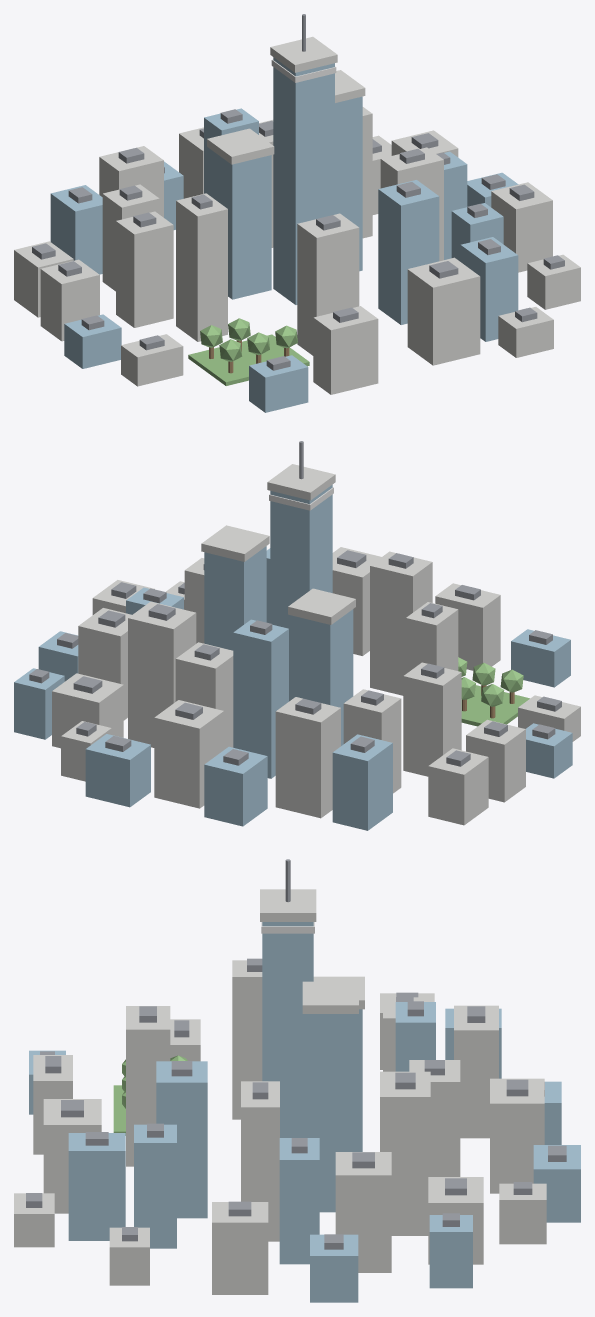
File: civ_city_modern_metro.glb
The picture shows the model from 3 angles, top to bottom: view 1: azimuth 30°, elevation 25°; view 2: azimuth 150°, elevation 25°; view 3: azimuth 270°, elevation 25°; orthographic projection. The views are drawn at different scales.
Visible parts, largest first — view 1: civ_city_modern_metro; view 2: civ_city_modern_metro; view 3: civ_city_modern_metro.
Part boxes in pixels (<box>): civ_city_modern_metro: <box>14,14,580,412</box>; civ_city_modern_metro: <box>14,441,580,830</box>; civ_city_modern_metro: <box>14,859,580,1302</box>.
Bounding box in the file's own units: 5.1 × 2.85 × 4.65.
